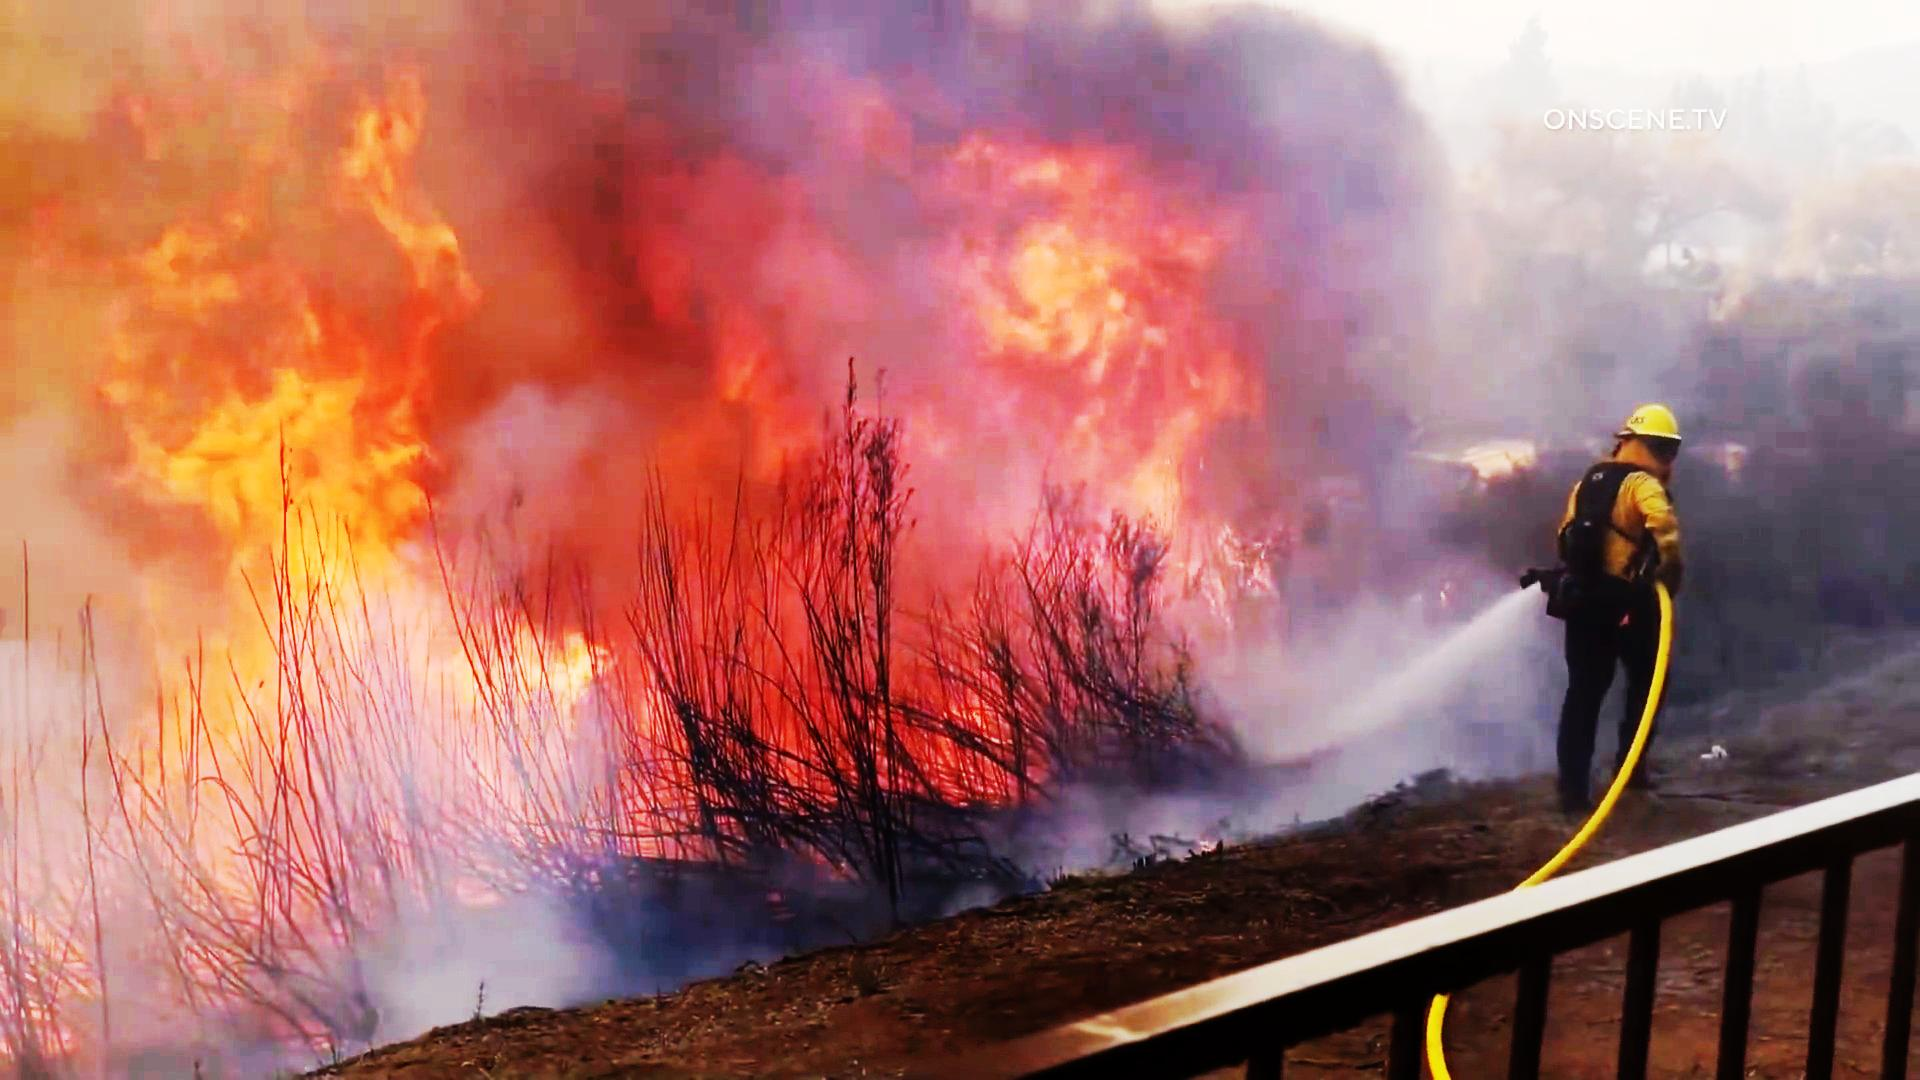fire: (5, 0, 578, 868), (585, 83, 1215, 397)
smoke: (605, 0, 1361, 96)
